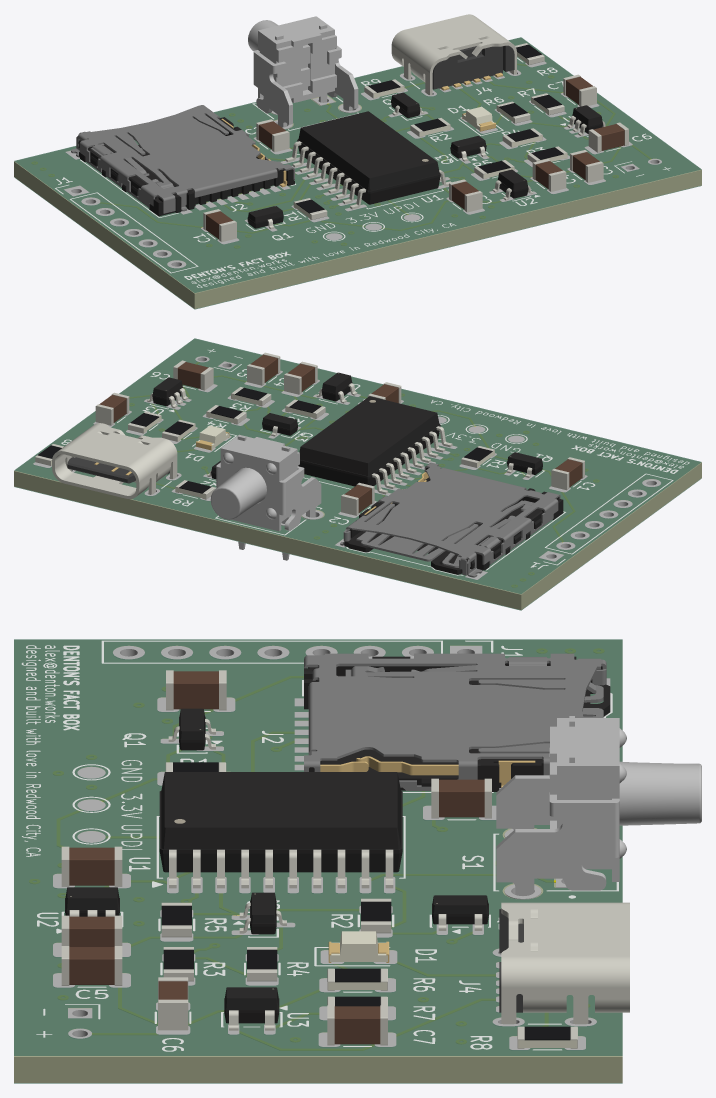
Rendered from attiny-e-ink.glb.
3 renders of one model, top to bottom at view 1: azimuth 30°, elevation 25°; view 2: azimuth 150°, elevation 25°; view 3: azimuth 270°, elevation 25°, orthographic. The views are drawn at different scales.
Parts seen in each view (by area): view 1: =>[0:1:1:17], =>[0:1:1:15], J2, U1, S1, J4, =>[0:1:1:12], =>[0:1:1:14], =>[0:1:1:11], C6, C4, C1 (+18 smaller); view 2: =>[0:1:1:17], =>[0:1:1:15], J2, U1, S1, J4, =>[0:1:1:12], =>[0:1:1:14], C6, C7, C2, C1 (+17 smaller); view 3: =>[0:1:1:15], =>[0:1:1:17], J2, U1, S1, J4, =>[0:1:1:12], =>[0:1:1:14], =>[0:1:1:11], C3, C7, C2 (+16 smaller).
Boxes of the visible parts, x1,y1,x2,y2 form: =>[0:1:1:17]: [14, 38, 701, 308]; =>[0:1:1:15]: [14, 37, 701, 292]; J2: [71, 105, 294, 216]; U1: [285, 111, 451, 209]; S1: [248, 16, 358, 127]; J4: [391, 14, 516, 95]; =>[0:1:1:12]: [64, 61, 661, 268]; =>[0:1:1:14]: [55, 57, 670, 287]; =>[0:1:1:11]: [32, 64, 650, 247]; C6: [588, 122, 628, 152]; C4: [532, 159, 566, 191]; C1: [203, 209, 236, 242]; =>[0:1:1:17]: [14, 339, 701, 609]; =>[0:1:1:15]: [14, 338, 701, 593]; J2: [340, 462, 563, 577]; U1: [298, 396, 452, 494]; S1: [210, 434, 321, 560]; J4: [52, 423, 177, 499]; =>[0:1:1:12]: [33, 356, 660, 579]; =>[0:1:1:14]: [61, 349, 689, 575]; C6: [173, 360, 213, 390]; C7: [95, 392, 129, 425]; C2: [341, 482, 374, 515]; C1: [551, 457, 584, 490]; =>[0:1:1:15]: [14, 639, 622, 1055]; =>[0:1:1:17]: [14, 640, 622, 1082]; J2: [304, 653, 610, 791]; U1: [159, 772, 402, 888]; S1: [496, 716, 701, 895]; J4: [499, 902, 629, 1024]; =>[0:1:1:12]: [53, 646, 610, 1050]; =>[0:1:1:14]: [21, 640, 618, 1051]; =>[0:1:1:11]: [29, 649, 603, 1050]; C3: [61, 846, 122, 886]; C7: [327, 1005, 387, 1045]; C2: [431, 778, 491, 818].
Size of the model in its own units: 0.052 by 0.011 by 0.0363.
